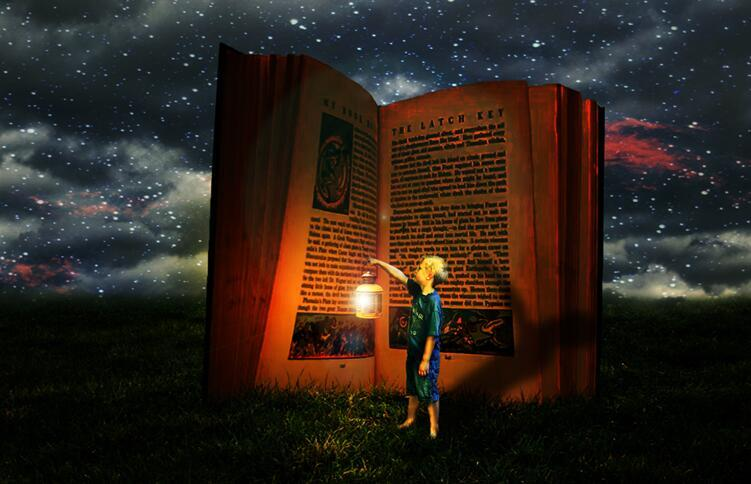book: (209, 36, 604, 404)
